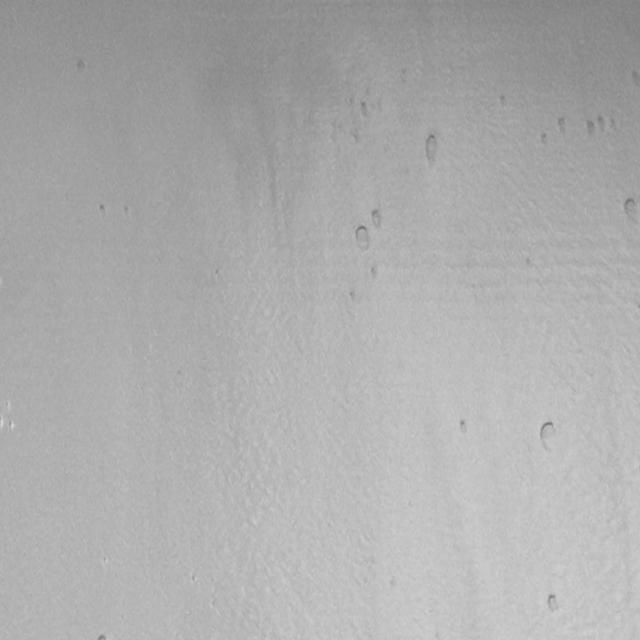pin holes: (536, 419, 562, 453), (419, 132, 442, 170), (620, 194, 639, 226), (544, 591, 566, 618), (354, 224, 374, 252), (554, 116, 574, 142), (369, 206, 388, 230), (457, 416, 474, 437), (584, 118, 600, 140), (358, 97, 374, 119), (594, 114, 610, 135), (368, 263, 384, 283), (627, 66, 640, 90), (74, 58, 90, 76), (539, 130, 553, 148), (346, 288, 360, 306), (97, 201, 110, 220), (122, 202, 134, 220), (499, 92, 511, 109), (5, 418, 17, 432), (3, 400, 13, 414), (96, 630, 111, 639)
